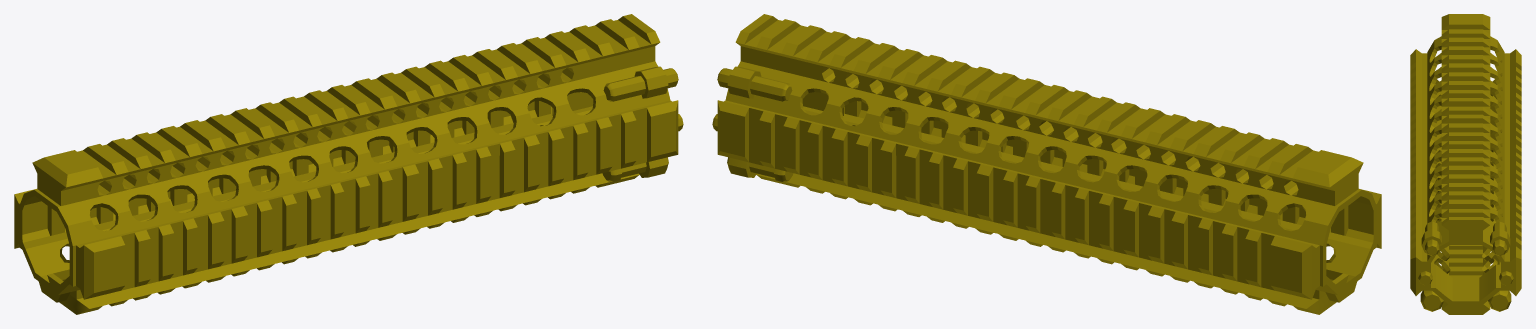
Rendered from AR-15_HandGuard_DDRIS_10_3.fbx.
3 renders of one model, left to right at view 1: azimuth 30°, elevation 25°; view 2: azimuth 150°, elevation 25°; view 3: azimuth 270°, elevation 25°, orthographic. The views are drawn at different scales.
Parts seen in each view (by area): view 1: handguard_DD_RIS_10_3; view 2: handguard_DD_RIS_10_3; view 3: handguard_DD_RIS_10_3.
Part boxes in pixels (x1,y1,x2,y2): handguard_DD_RIS_10_3: (14, 14, 683, 314); handguard_DD_RIS_10_3: (712, 14, 1381, 314); handguard_DD_RIS_10_3: (1410, 14, 1521, 314).
Bounding box in the file's own units: 27.92 × 6.28 × 6.2.
